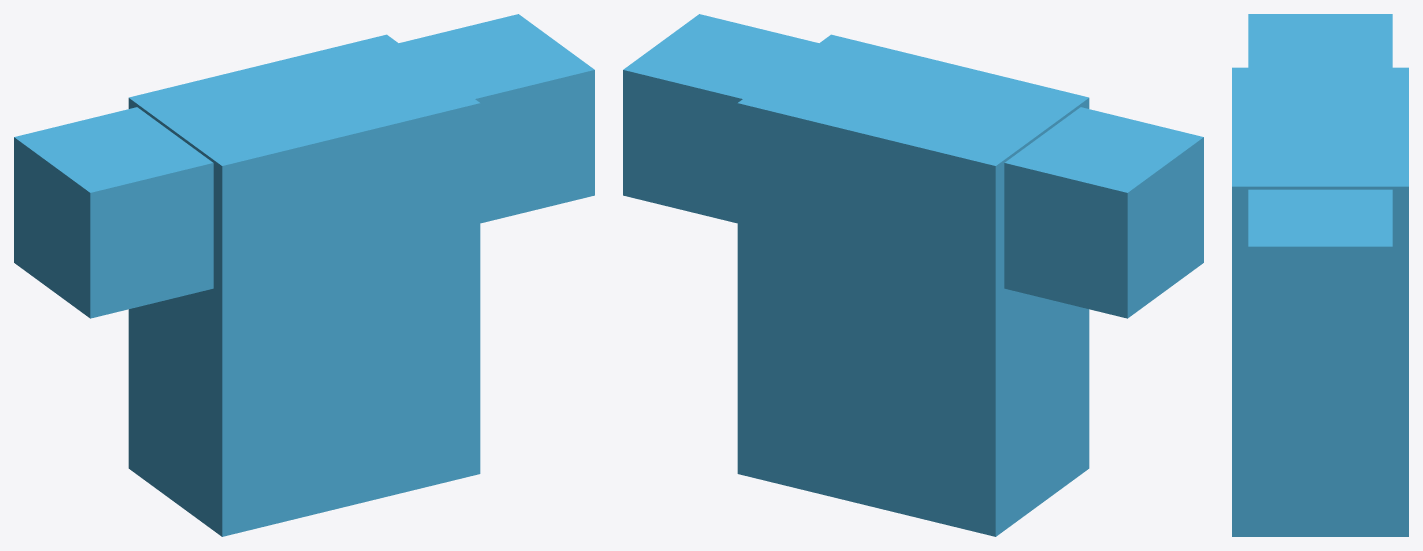
The model's file is mock-tshirt.glb.
3 views of the same model, side by side, from view 1: azimuth 30°, elevation 25°; view 2: azimuth 150°, elevation 25°; view 3: azimuth 270°, elevation 25° (orthographic). The views are drawn at different scales.
Parts seen in each view (by area): view 1: mock shirt torso, mock right sleeve, mock left sleeve; view 2: mock shirt torso, mock right sleeve, mock left sleeve; view 3: mock shirt torso, mock left sleeve, mock right sleeve.
Boxes of the visible parts, x1=… form: mock shirt torso: x1=128, y1=34, x2=480, y2=536; mock right sleeve: x1=14, y1=107, x2=213, y2=318; mock left sleeve: x1=399, y1=14, x2=594, y2=223; mock shirt torso: x1=737, y1=34, x2=1089, y2=536; mock right sleeve: x1=1004, y1=107, x2=1203, y2=318; mock left sleeve: x1=623, y1=14, x2=818, y2=223; mock shirt torso: x1=1232, y1=67, x2=1408, y2=536; mock left sleeve: x1=1248, y1=189, x2=1392, y2=365; mock right sleeve: x1=1248, y1=14, x2=1392, y2=67.
Bounding box in the file's own units: 0.84 × 0.59 × 0.27.
